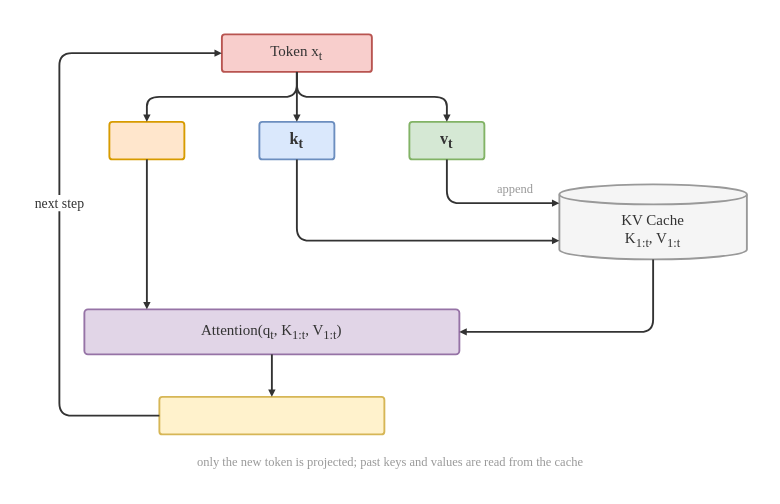
Image size: 780x504. Some labels were removed from this diagram. Each missing label, with the centre of its shape:
"Next token x t+1" goes at point (271, 415).
"q t" goes at point (146, 140).
